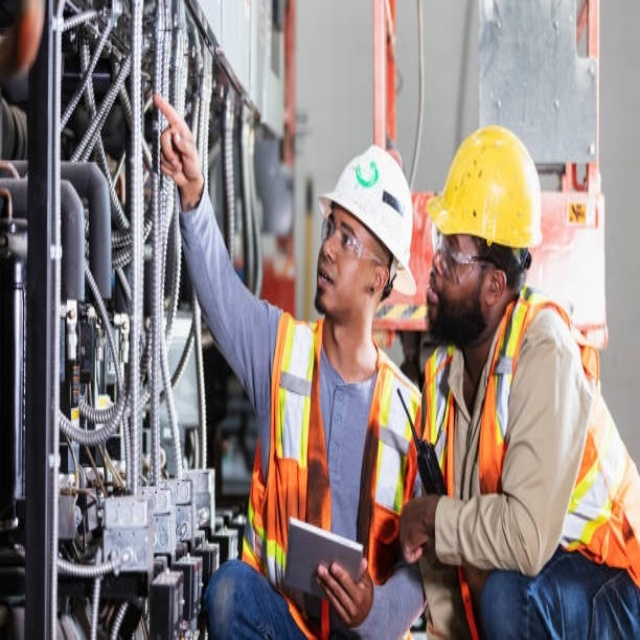Gafas: (320, 209, 385, 269), (430, 221, 490, 277)
Sin_guantes: (150, 89, 202, 197), (315, 550, 374, 630), (397, 493, 441, 565)
Sin_mascara: (424, 272, 450, 328), (313, 262, 339, 305)
